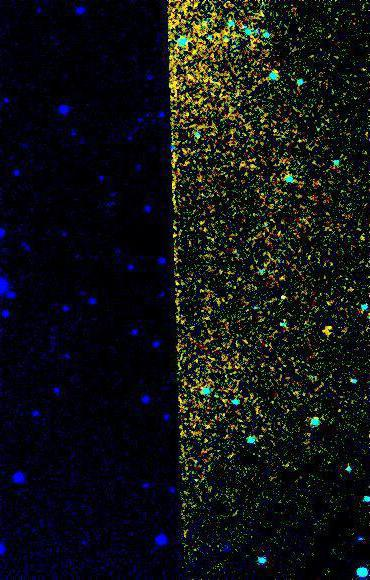star: (316, 313, 346, 343)
